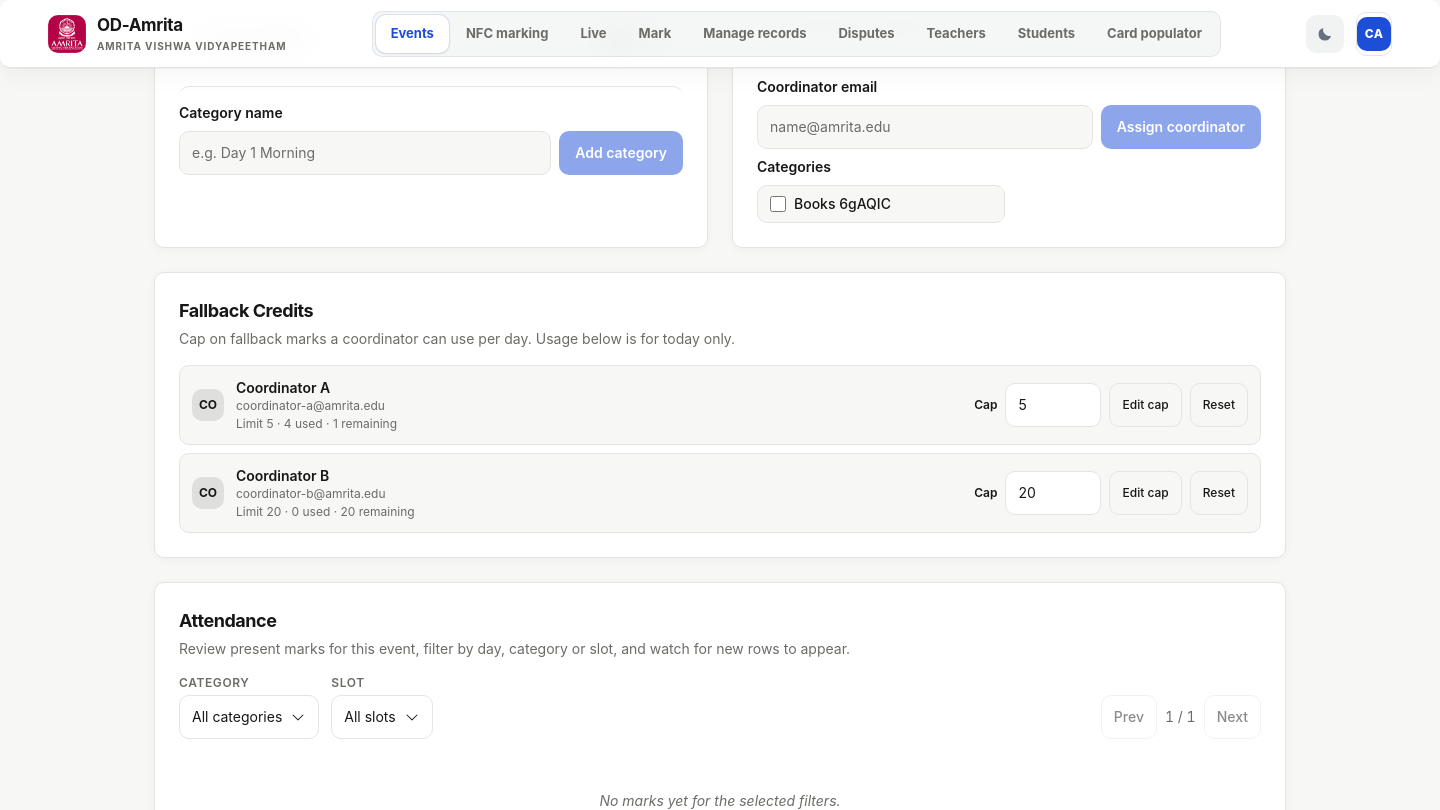
Test: event detail fallback credits › [P0] resets one coordinator without a page reload
(page scrolled)
Step 1. Click the button with aria-label "reset coordinator-a@amrita.edu" → (1219, 405), box [1190,383,1248,427]
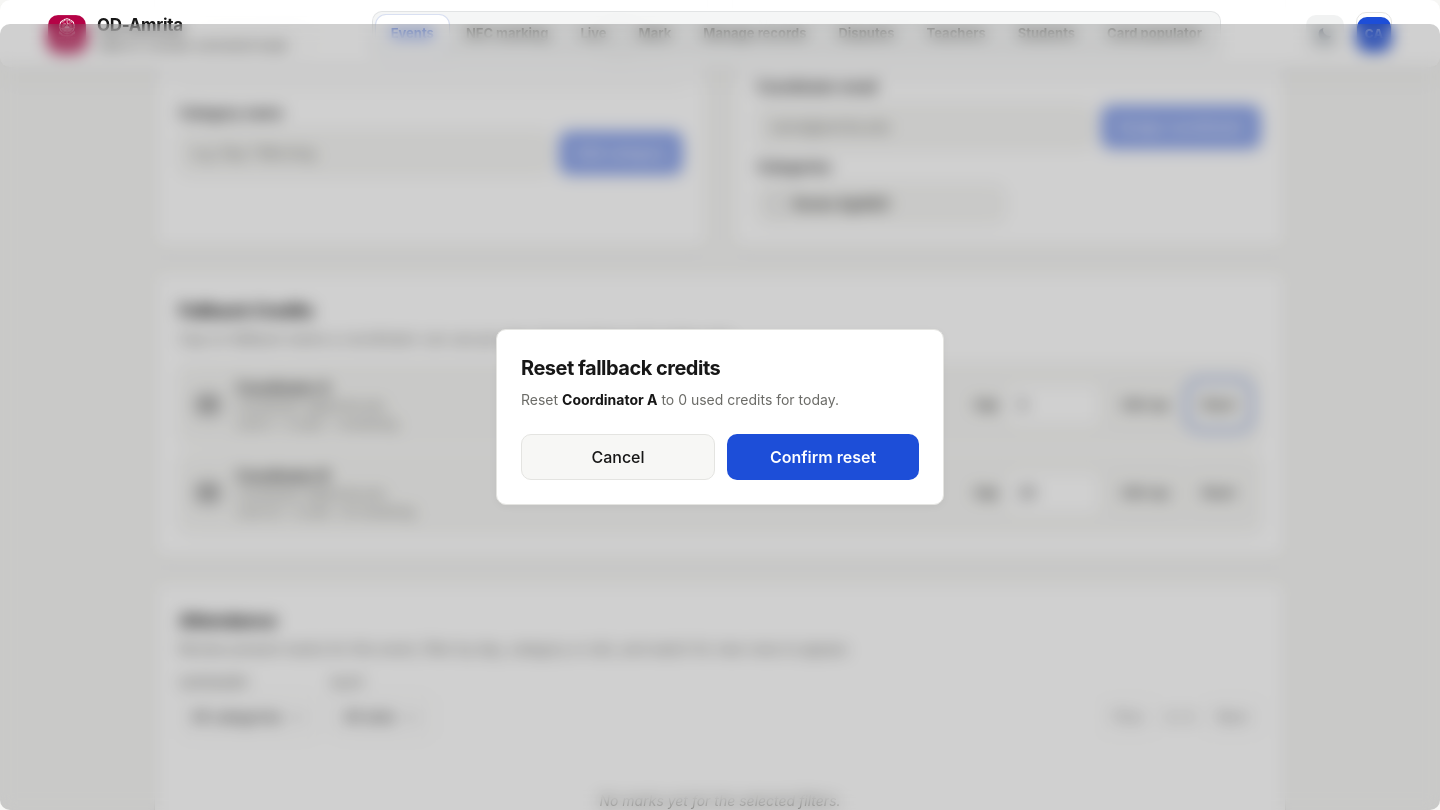
Step 2. Click the button "Confirm reset" → (823, 457), box [727,434,919,480]
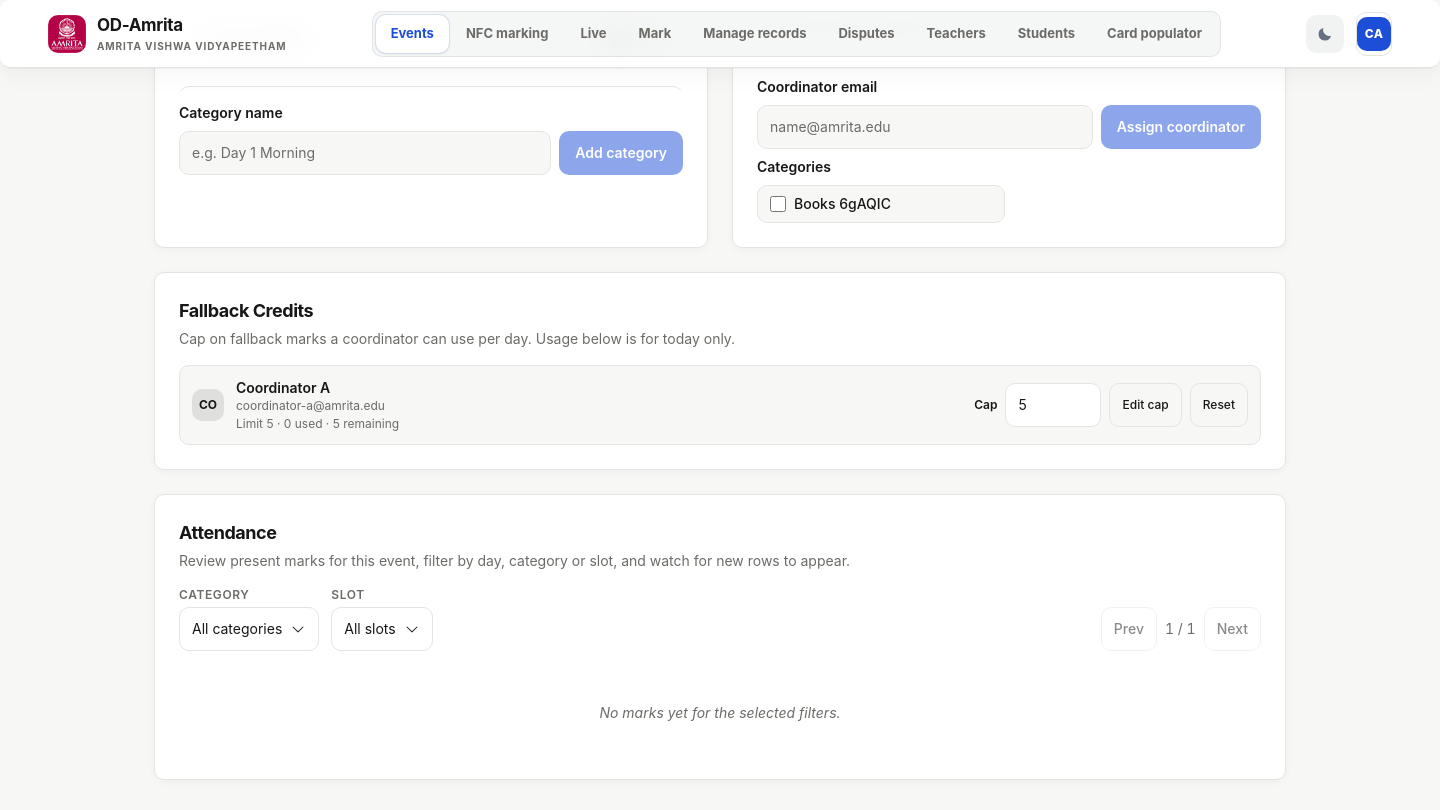
Expected: the text "Limit 5 · 0 used · 5 remaining" is shown, [236,416,399,432]
